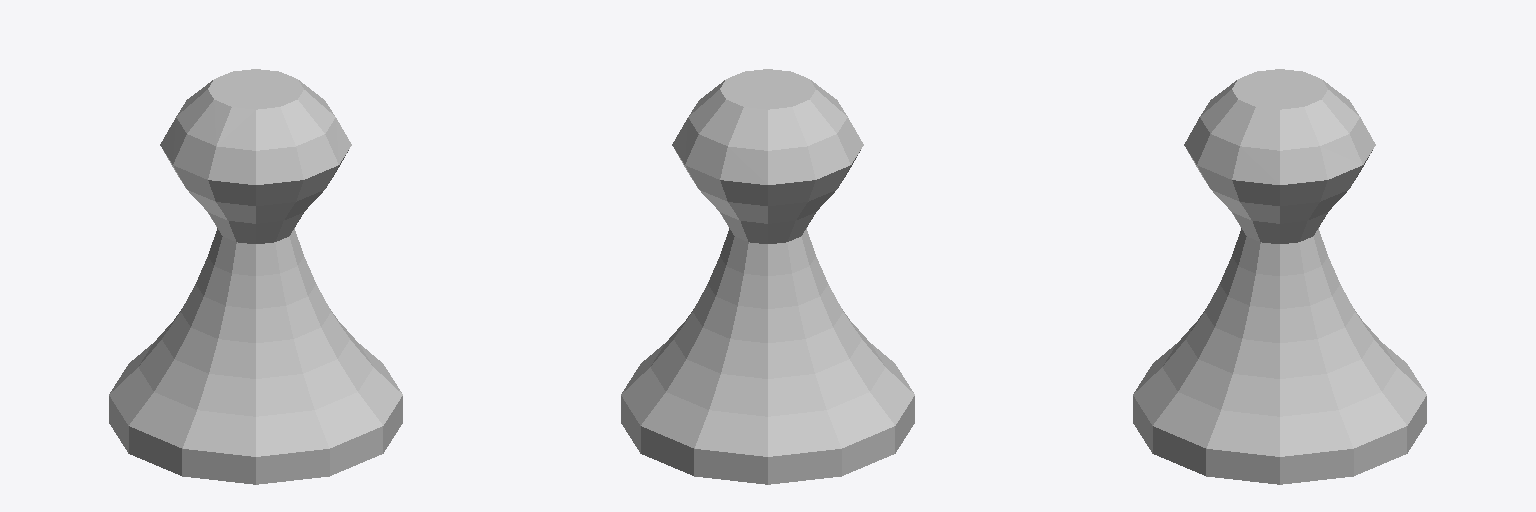
Rendered from pawn.obj.
3 renders of one model, left to right at view 1: azimuth 30°, elevation 25°; view 2: azimuth 150°, elevation 25°; view 3: azimuth 270°, elevation 25°, orthographic.
Bounding box in the file's own units: 4 × 5 × 4.